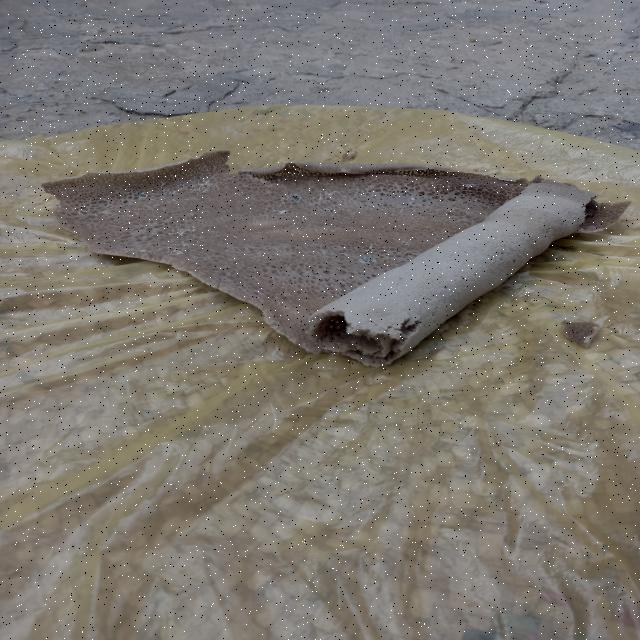injera_mold: (192, 180, 216, 192), (170, 228, 196, 238), (168, 245, 185, 257), (360, 256, 376, 265), (288, 192, 302, 202), (319, 190, 331, 201), (461, 182, 476, 189), (185, 196, 199, 203), (366, 244, 375, 254), (135, 192, 146, 200), (400, 240, 410, 248), (137, 248, 149, 254), (273, 176, 284, 182), (352, 286, 362, 292), (57, 188, 65, 195), (160, 189, 168, 196), (279, 209, 288, 215), (177, 182, 186, 188), (172, 197, 178, 206), (122, 198, 130, 204), (333, 189, 341, 195), (339, 250, 346, 256), (171, 188, 176, 196), (329, 208, 335, 214), (410, 196, 416, 202), (288, 233, 297, 237), (232, 234, 238, 240), (341, 168, 348, 173), (237, 192, 245, 196), (160, 181, 165, 187), (77, 210, 82, 216), (237, 175, 244, 179), (302, 218, 308, 222), (194, 176, 202, 179), (240, 170, 248, 173), (446, 184, 452, 188), (130, 187, 136, 191), (79, 205, 86, 208), (58, 204, 62, 209), (473, 198, 478, 202), (94, 212, 98, 217), (160, 200, 164, 204), (402, 174, 407, 177), (272, 209, 277, 212), (87, 210, 91, 213), (188, 218, 192, 220), (379, 203, 382, 205), (342, 208, 344, 211), (331, 215, 333, 218), (191, 214, 194, 216)
